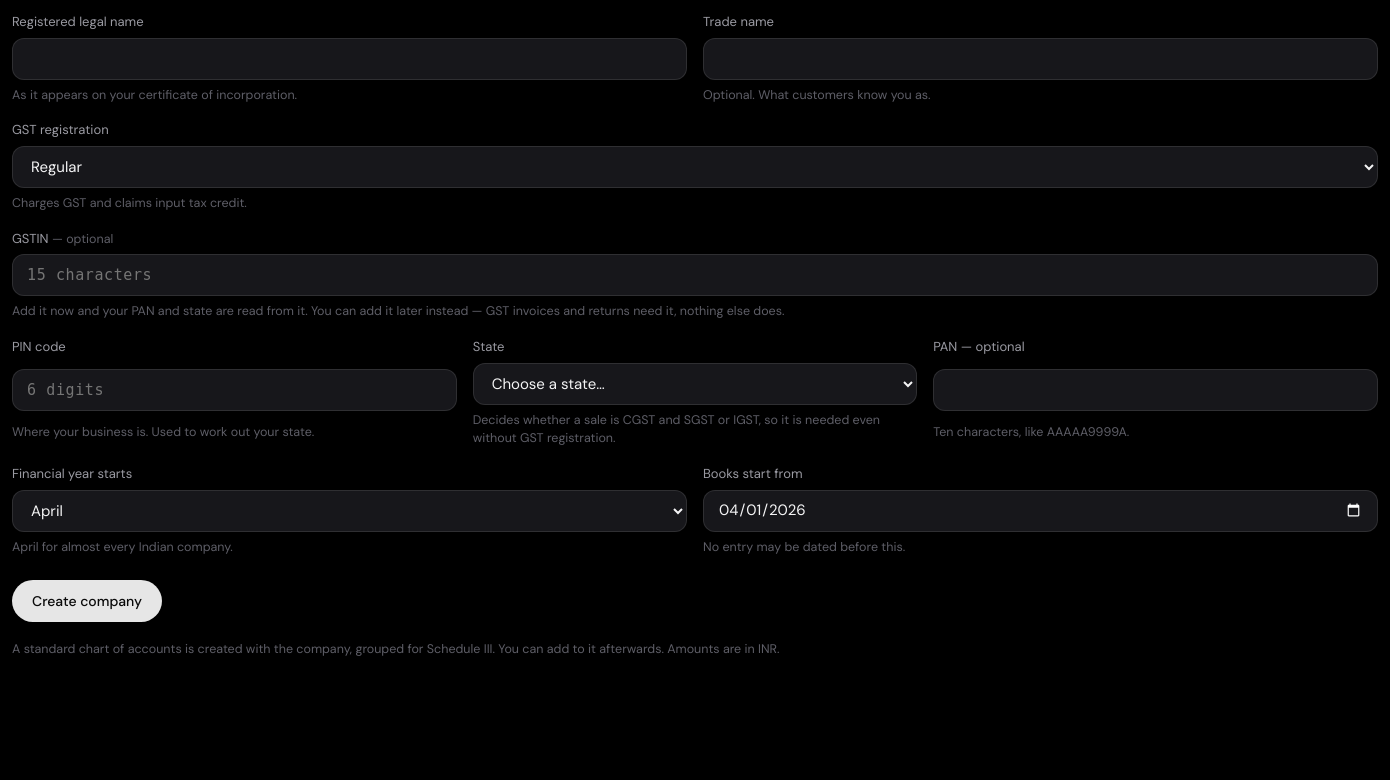
it: CompanyForm › takes the state from the GSTIN and stops asking twice
Type "36AABCU9603R1ZO" into the field labelled "GSTIN — optional".
click(695, 275); type("36AABCU9603R1ZO")  # box [12, 254, 1378, 296]
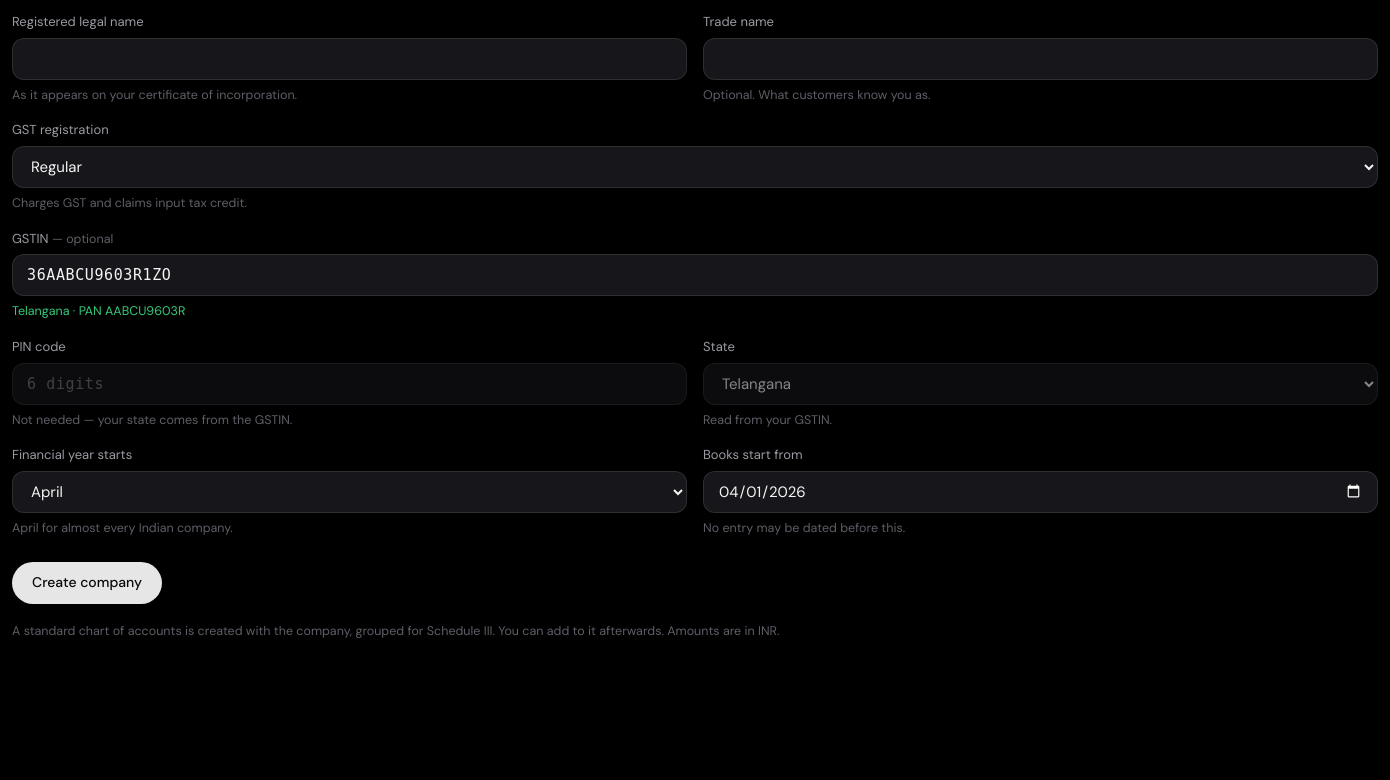
Result: the dropdown labelled "State" shows "Telangana" at [703, 362, 1378, 404]
Result: the dropdown labelled "State" is disabled at [703, 362, 1378, 404]
Result: the field labelled "PIN code" is disabled at [12, 362, 687, 404]
